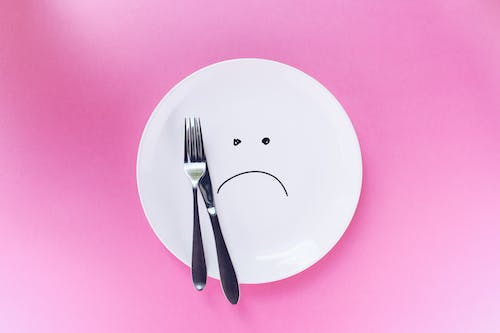knife: (186, 125, 241, 306)
